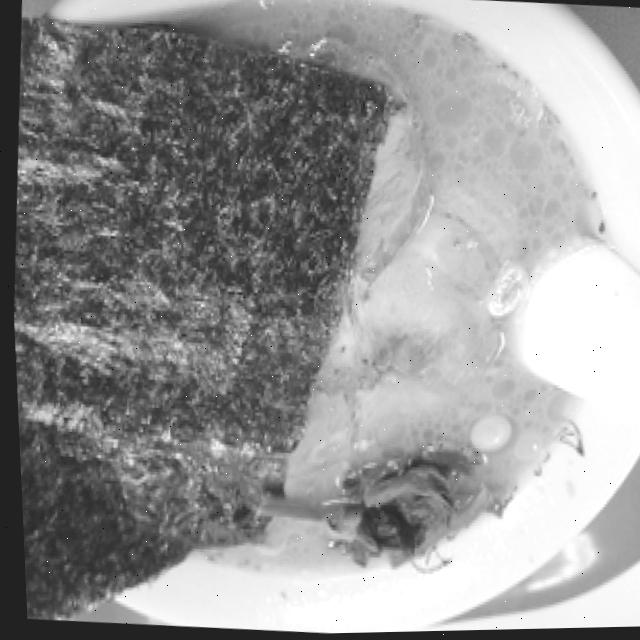面条主食: (4, 0, 634, 591)
